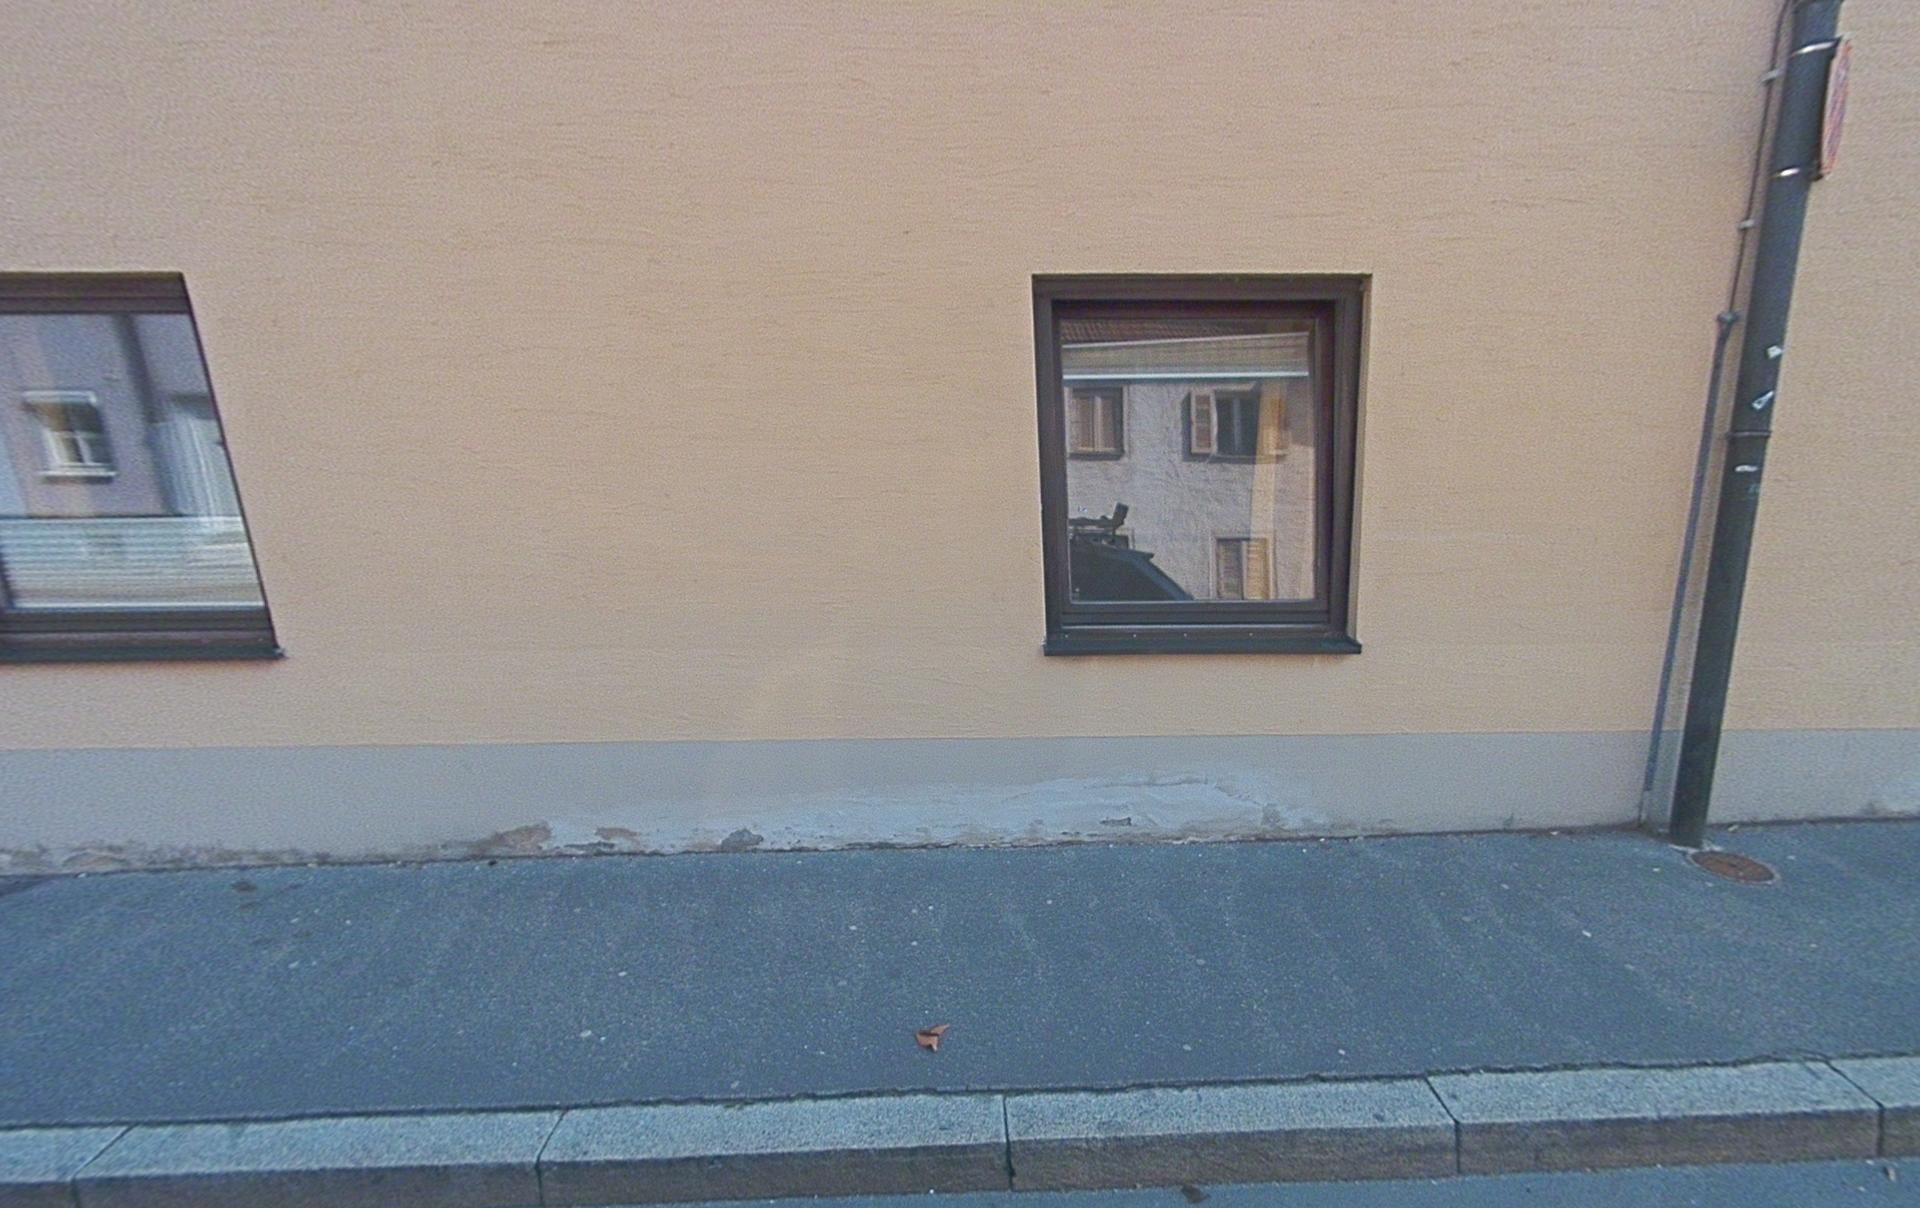car: (1067, 502, 1197, 604)
